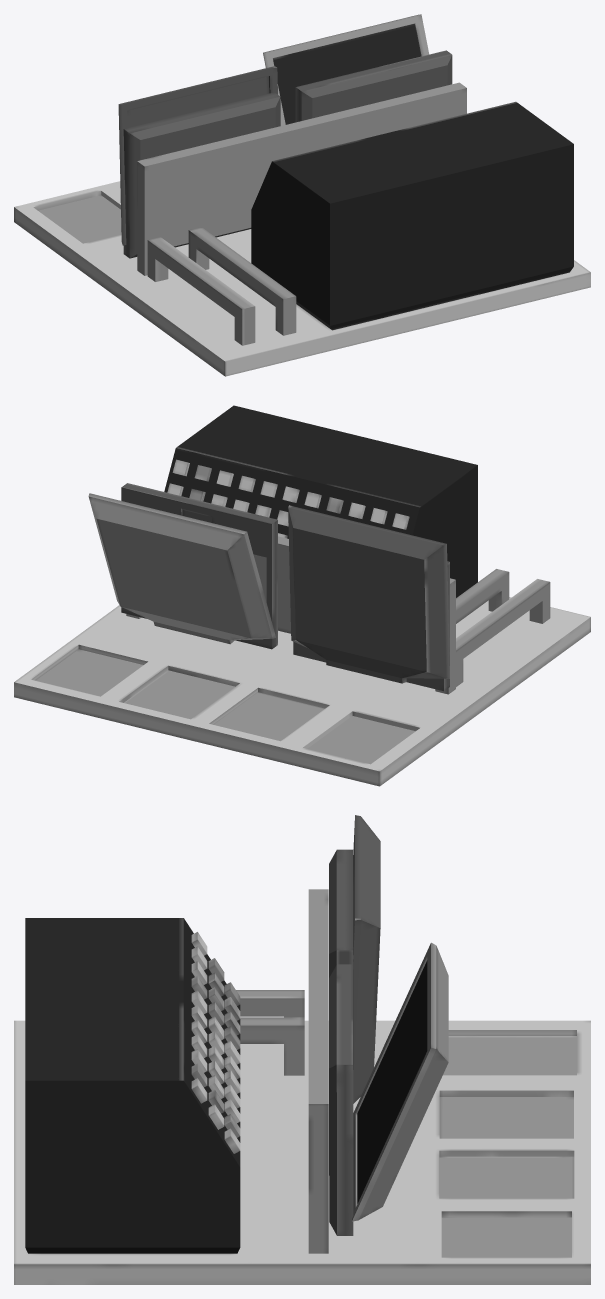
Rendered from Console_A.fbx.
3 renders of one model, top to bottom at view 1: azimuth 30°, elevation 25°; view 2: azimuth 150°, elevation 25°; view 3: azimuth 270°, elevation 25°, orthographic. The views are drawn at different scales.
Visible parts, largest first — view 1: Console_A; view 2: Console_A; view 3: Console_A.
Part boxes in pixels (x1=…): Console_A: x1=14, y1=14, x2=590, y2=376; Console_A: x1=14, y1=405, x2=590, y2=786; Console_A: x1=14, y1=815, x2=590, y2=1284.
Bounding box in the file's own units: 200 × 91.34 × 200.
